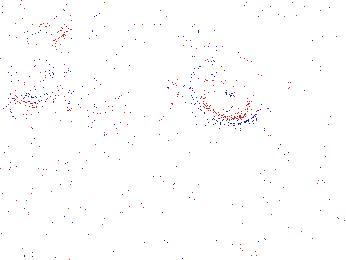moon jellyfish: (30, 38, 115, 116), (219, 40, 322, 93), (189, 53, 264, 125), (88, 83, 180, 138), (1, 31, 42, 95)
